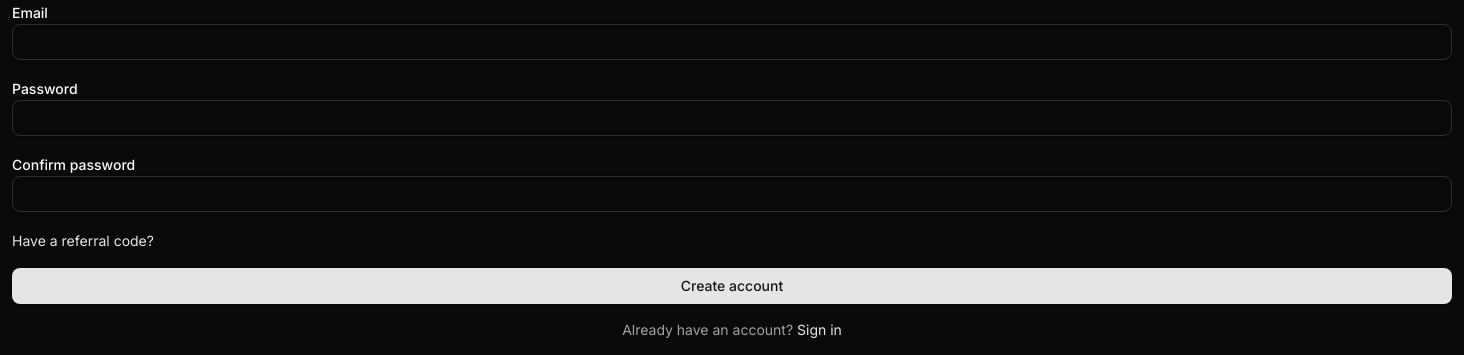
Scenario: RegisterForm › replaces the form with a persistent "Check your email" view naming the user address
Type "alice@example.com" into the field labelled "Email". click: (732, 42)
box: [12,24,1452,60]
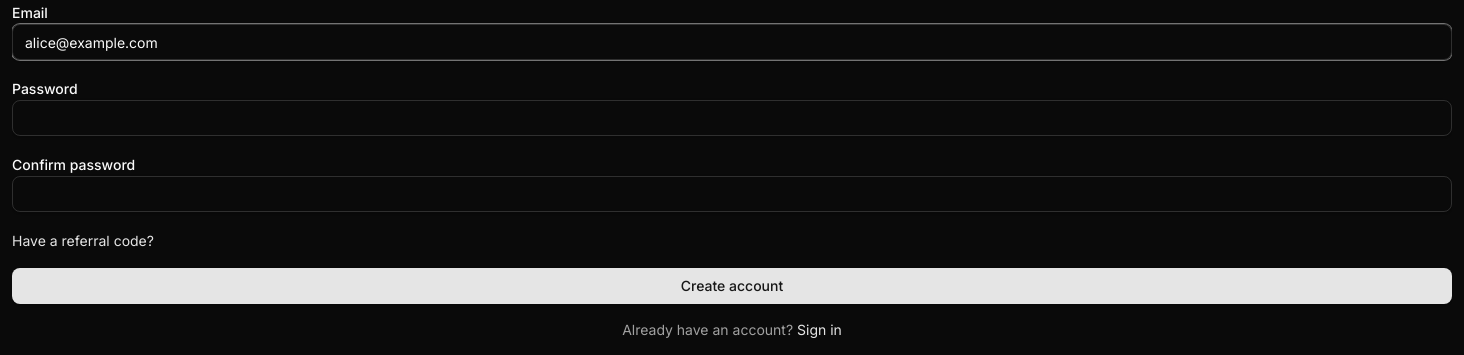
Type "password123" into the password field labelled "Password". click: (732, 118)
box: [12,100,1452,136]
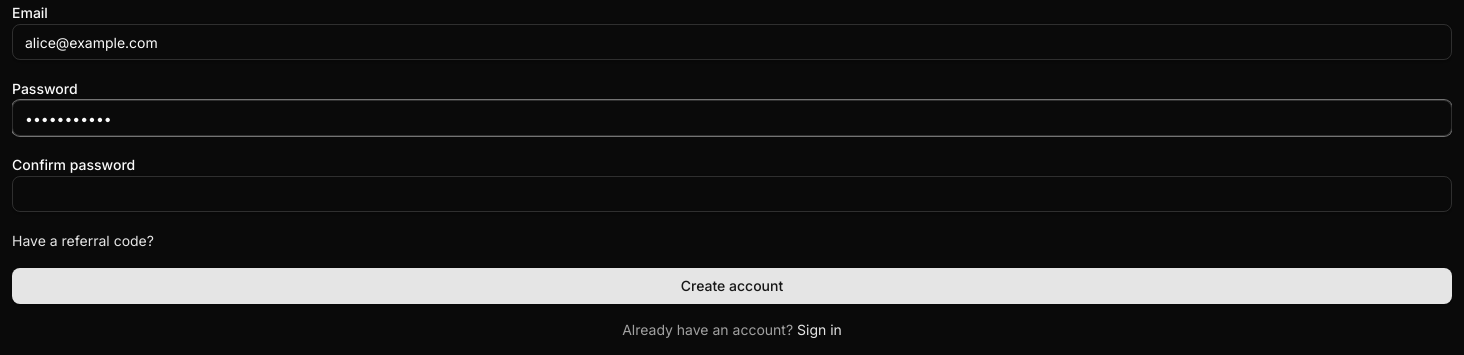
Type "password123" into the password field labelled "Confirm password". click: (732, 194)
box: [12,176,1452,212]
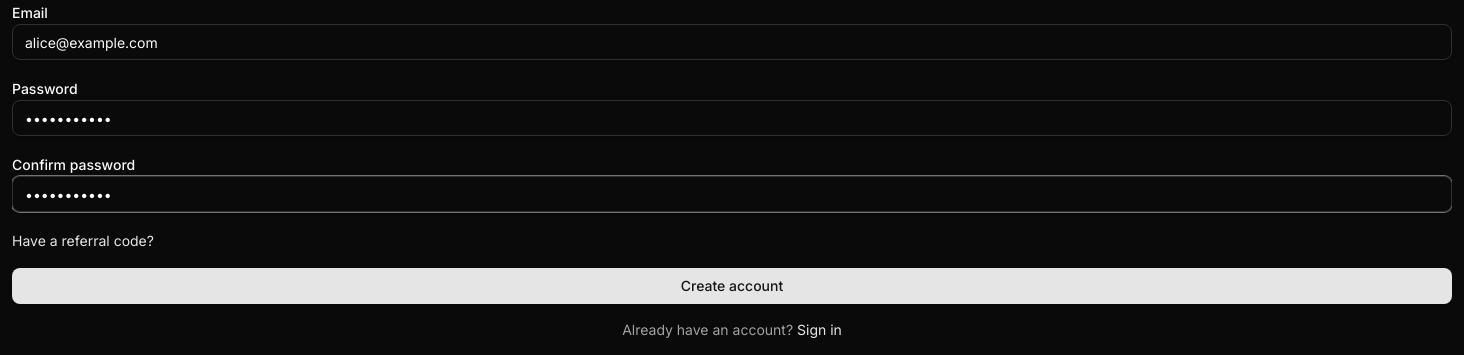
Click the button "Create account". click: (732, 286)
box: [12,268,1452,304]
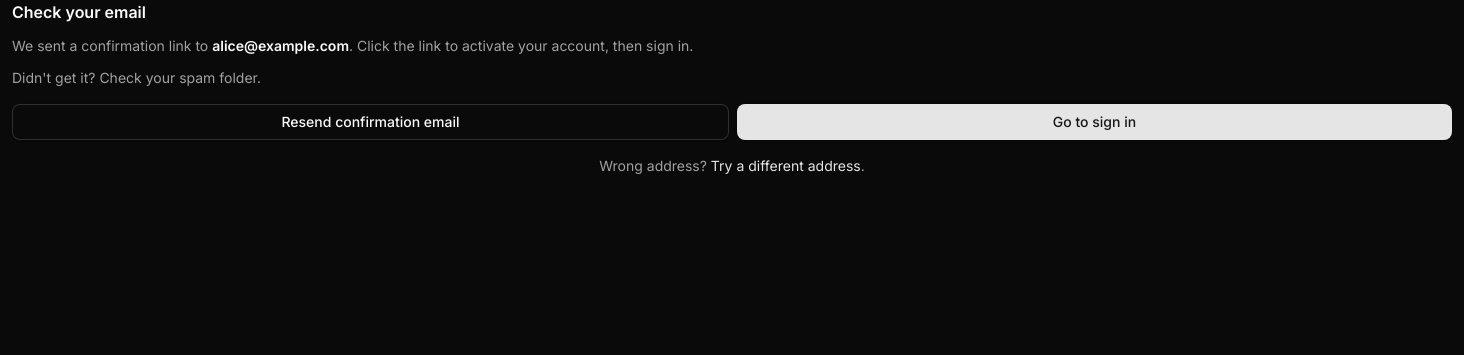
Expected: the text "Check your email" is shown, [12,2,146,22]
Expected: the text "alice@example.com" is shown, [212,37,349,54]
Expected: the label labelled "Password" is gone
